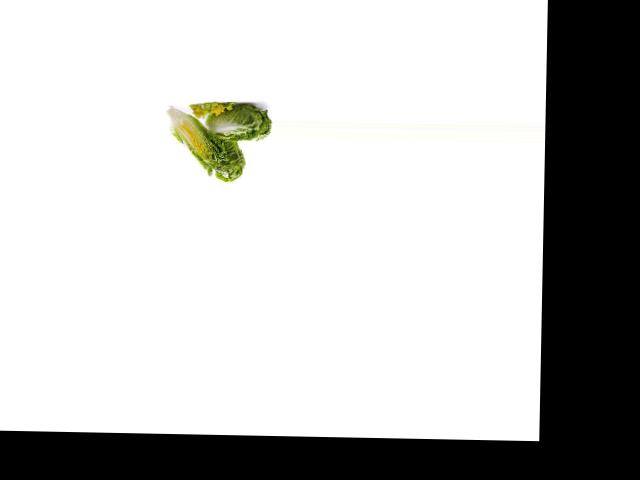lettuce: (197, 98, 270, 144)
